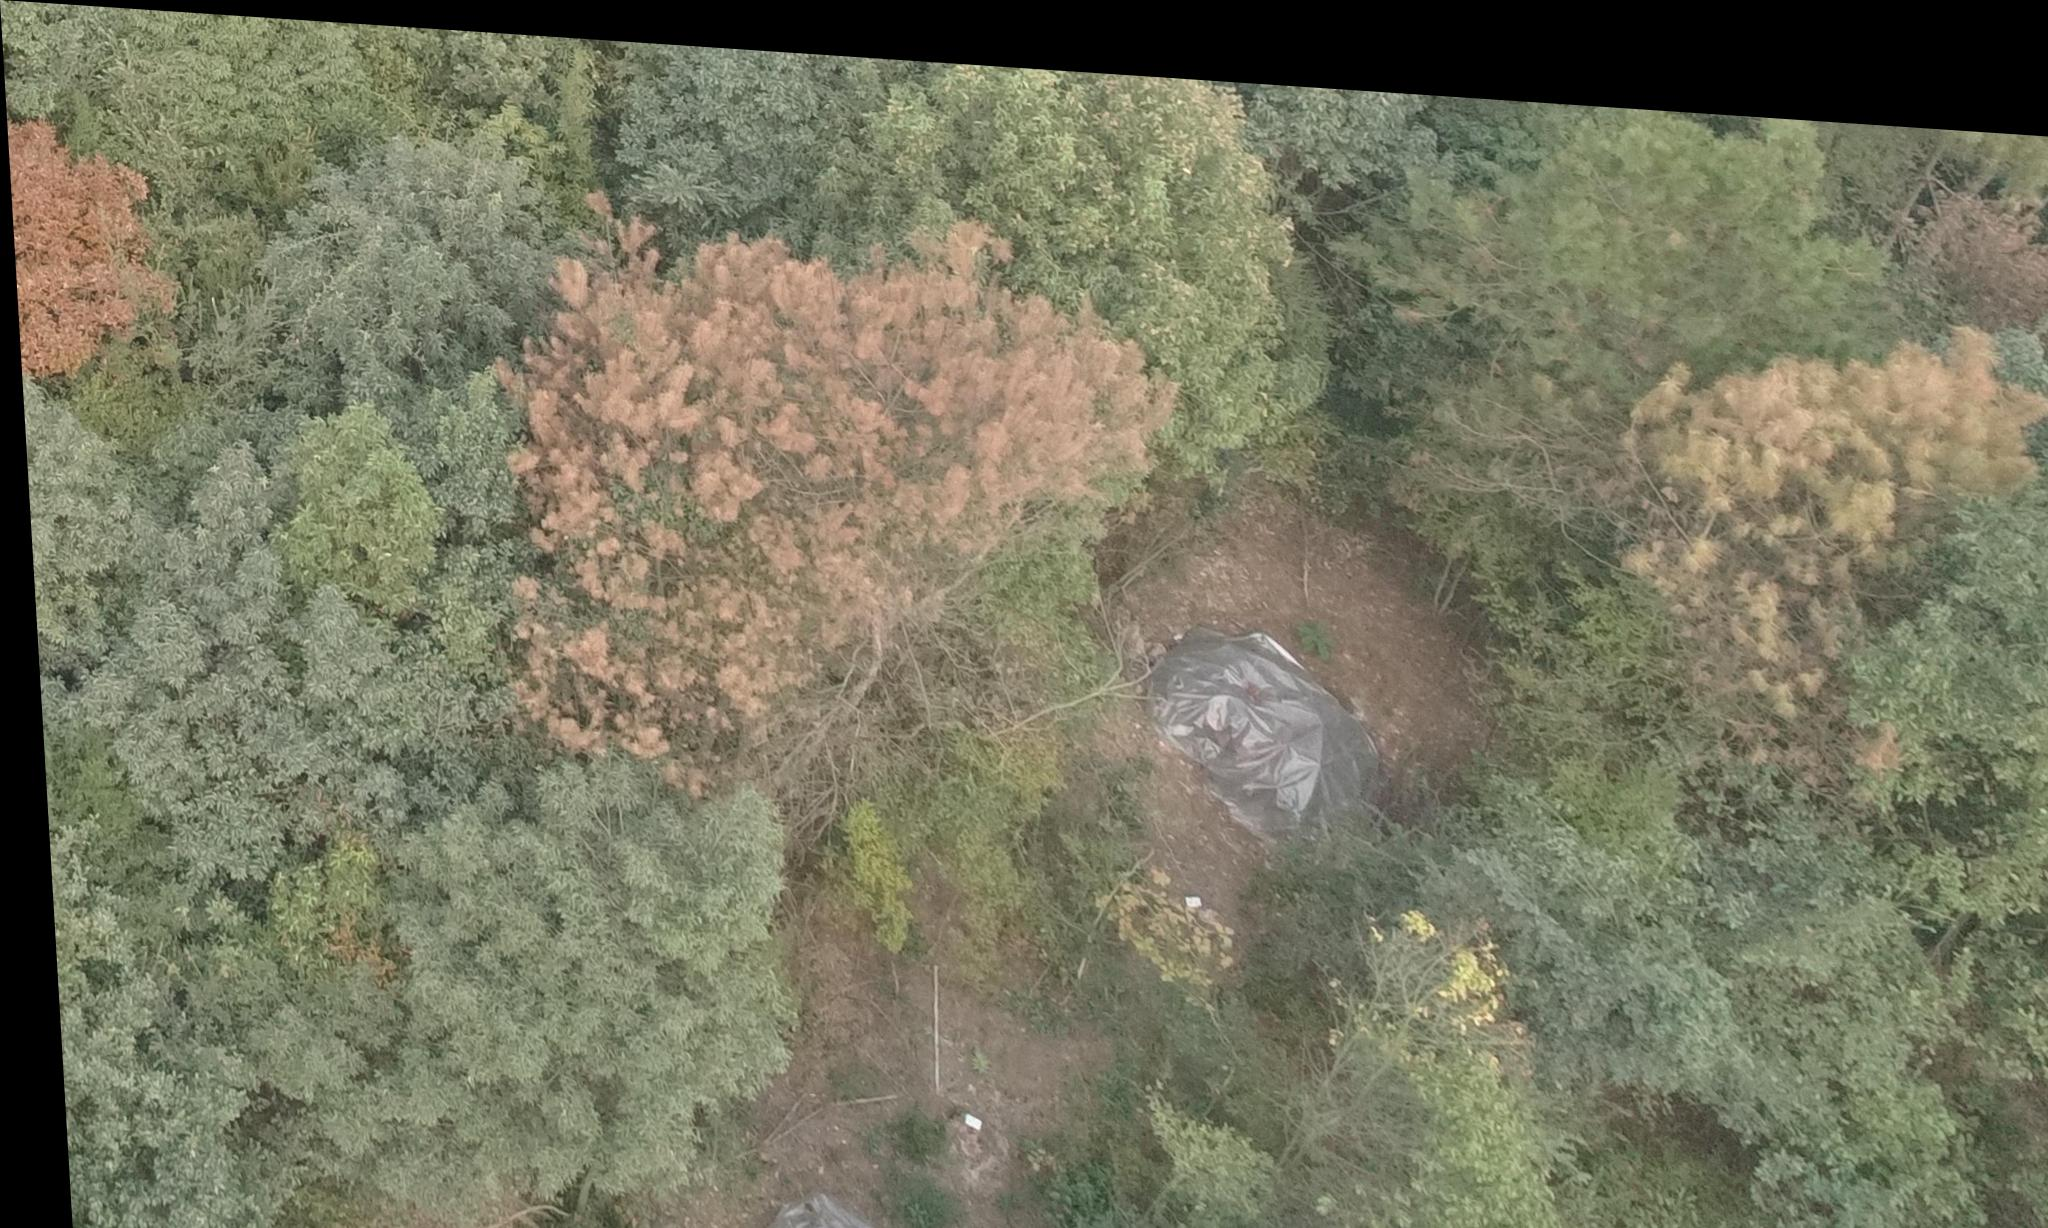heavy: (488, 189, 1190, 811), (1585, 278, 2038, 779)
